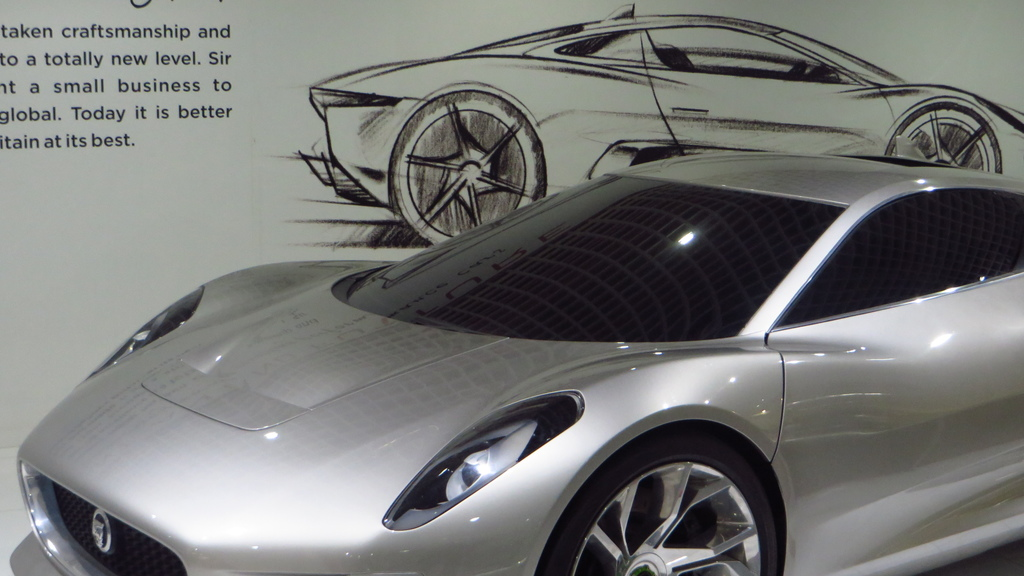Car: (12, 153, 1023, 575), (307, 3, 1023, 247)
